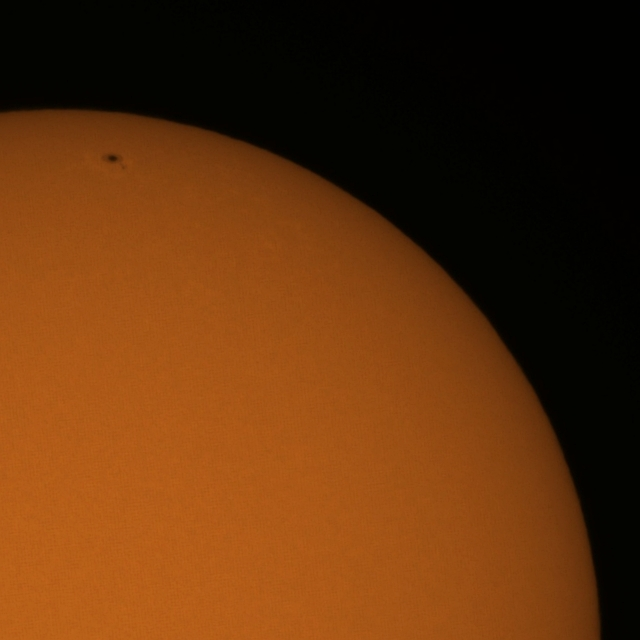sunspot: (100, 152, 127, 171)
